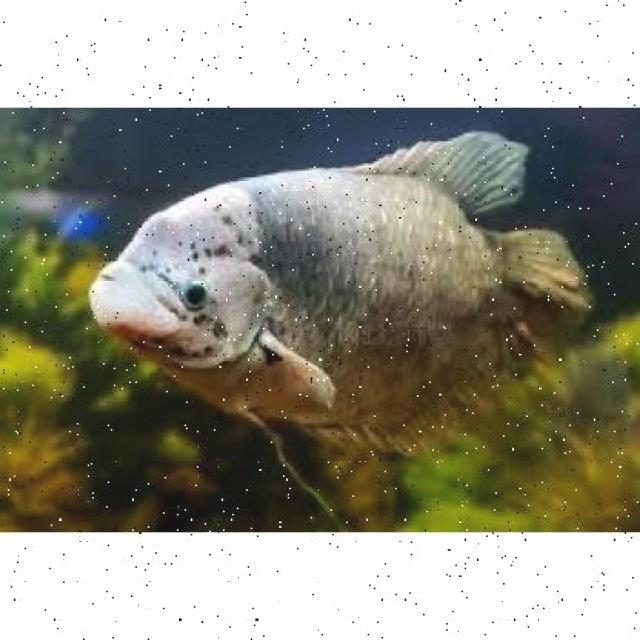gurame: (91, 132, 580, 460)
